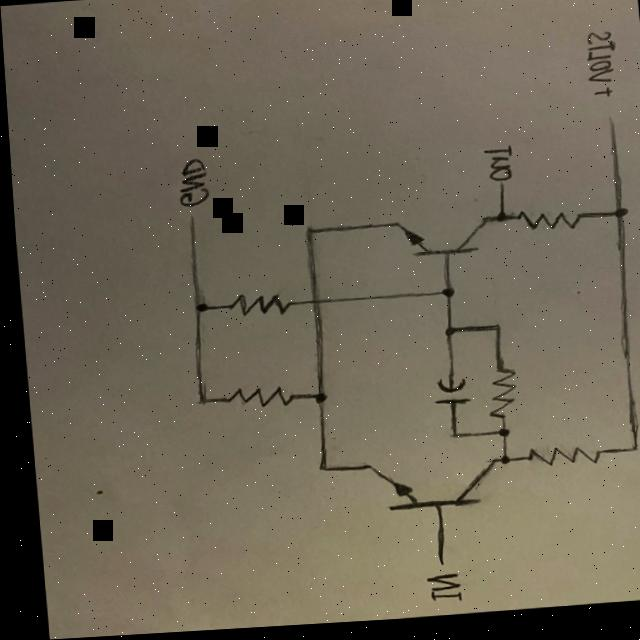capacitor: (423, 375, 466, 419)
crossover: (299, 295, 326, 316)
junction: (292, 220, 322, 245), (602, 207, 630, 233), (177, 300, 208, 323), (181, 389, 209, 412), (299, 390, 326, 413), (301, 464, 330, 485), (432, 288, 457, 309), (430, 328, 457, 347), (485, 430, 508, 448), (619, 446, 640, 463), (482, 326, 503, 343), (487, 215, 507, 232), (488, 459, 509, 474), (437, 433, 458, 446)
resistor: (516, 449, 602, 477), (219, 293, 292, 324), (510, 211, 582, 241), (215, 387, 290, 414), (477, 370, 512, 427)
terminal: (599, 114, 622, 155), (418, 538, 444, 573), (179, 212, 198, 236), (493, 188, 507, 207)
text: (580, 37, 618, 92), (170, 159, 209, 212), (412, 575, 456, 610), (479, 149, 512, 189), (587, 93, 614, 105)
transistor: (359, 459, 491, 529), (387, 213, 487, 266)
